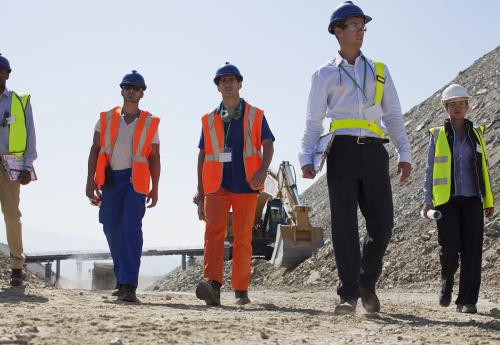helmet: (322, 1, 375, 60), (212, 58, 248, 108), (116, 67, 150, 111), (440, 82, 475, 124)
